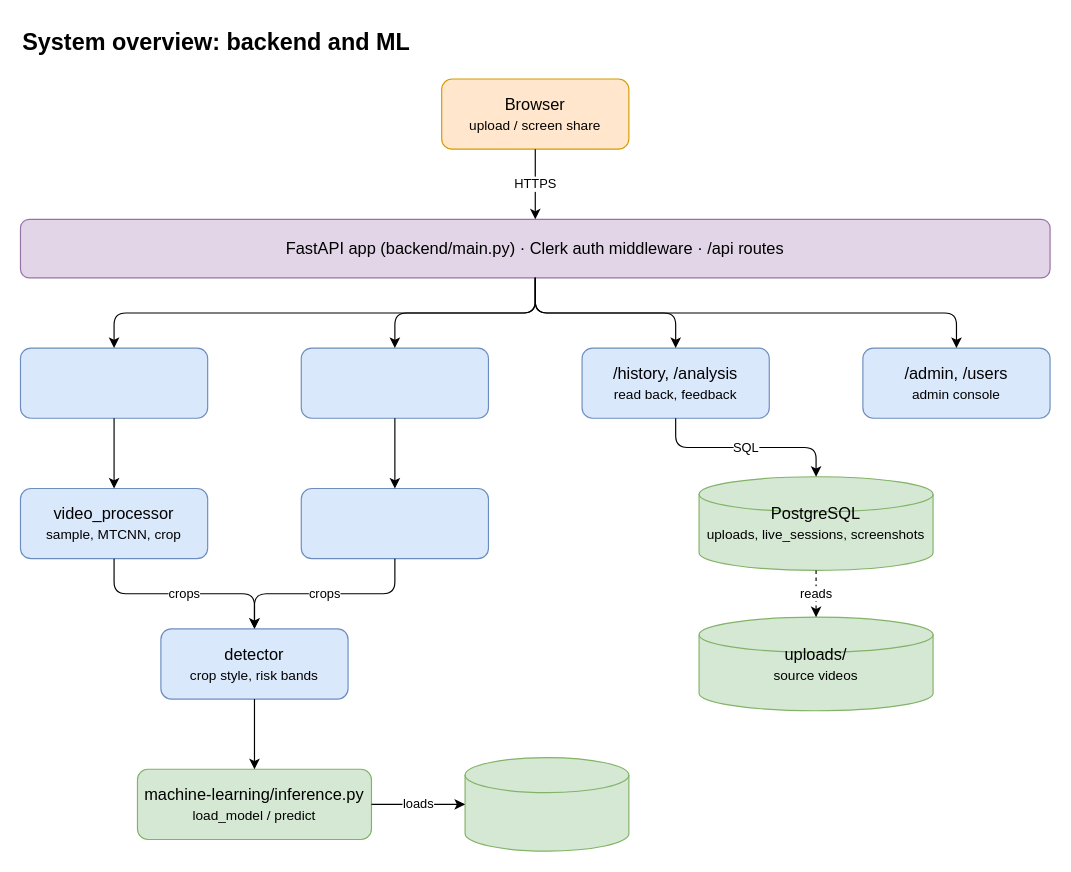
The diagram is 1071 pixels wide and 872 high, and some of its shapes have lost their labels. The centre of each missing label's shape, as x and y in pixels:
/analyze video upload: (113,382)
/live/* JPEG frames, EMA: (394,382)
Checkpoint best.pth + config.json: (546,803)
live_session smoothing, hysteresis: (394,523)
